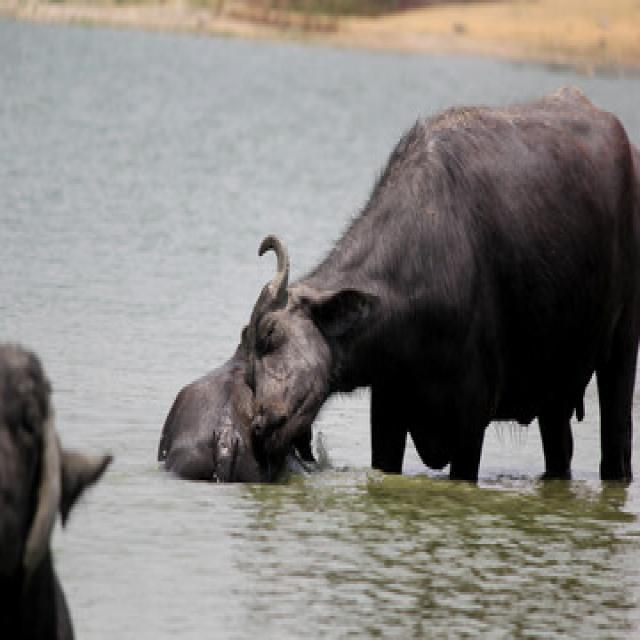Buffalo: (242, 80, 640, 480)
